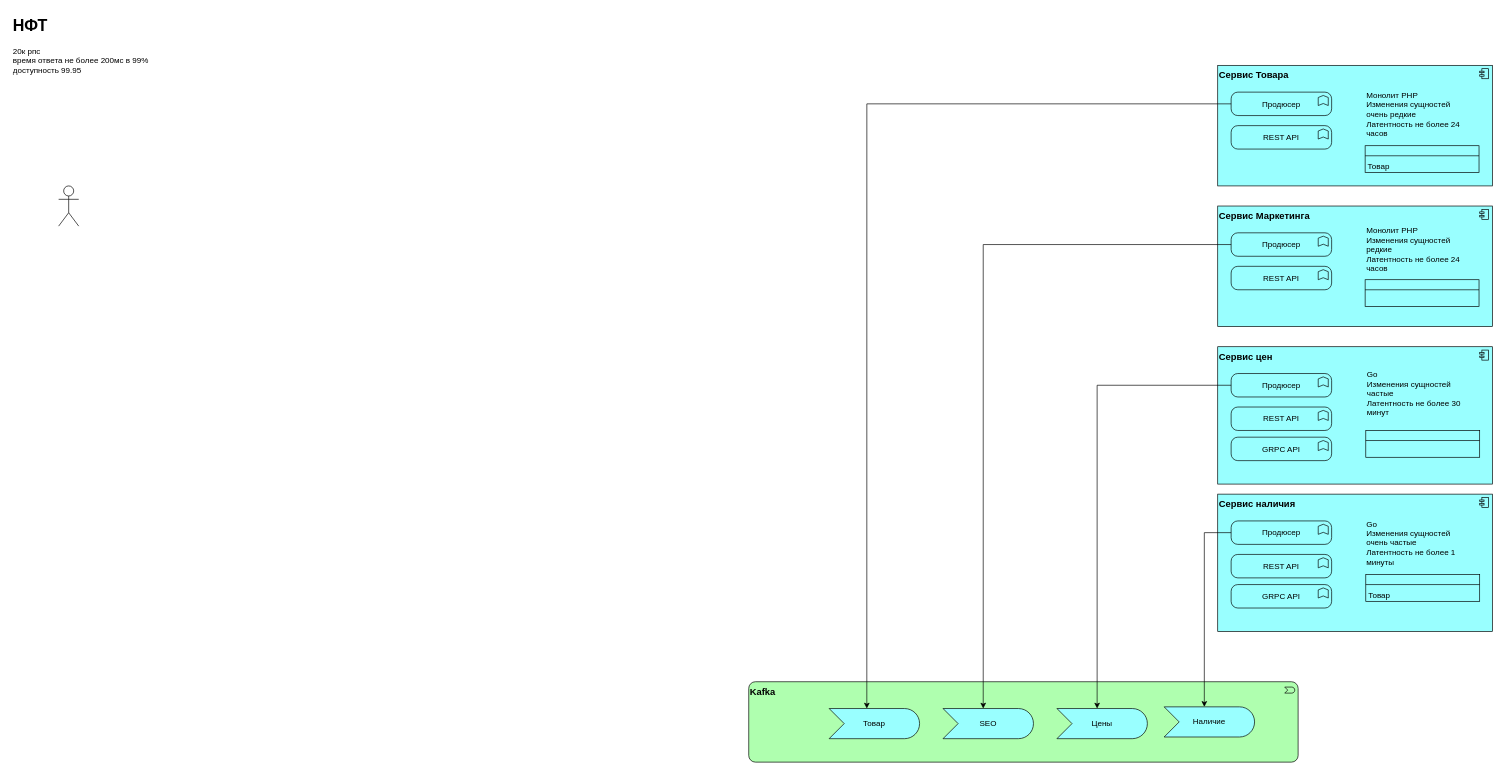
Image size: 1504x774. Some labels were removed from this diagram. The centre of each missing label's shape, as x and y in pixels:
"Actor" goes at (x=68, y=205).
"SEO информация о товаре" goes at (x=1421, y=293).
"Цены по регионам" goes at (x=1422, y=443).
